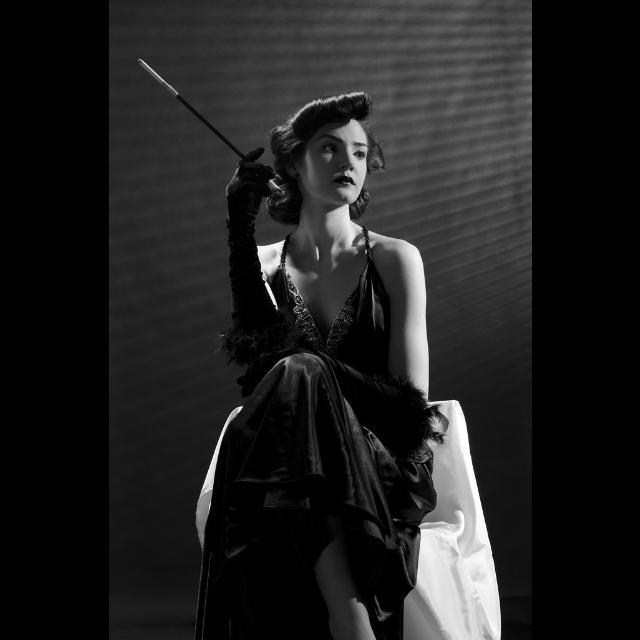rokok: (134, 54, 170, 94)
